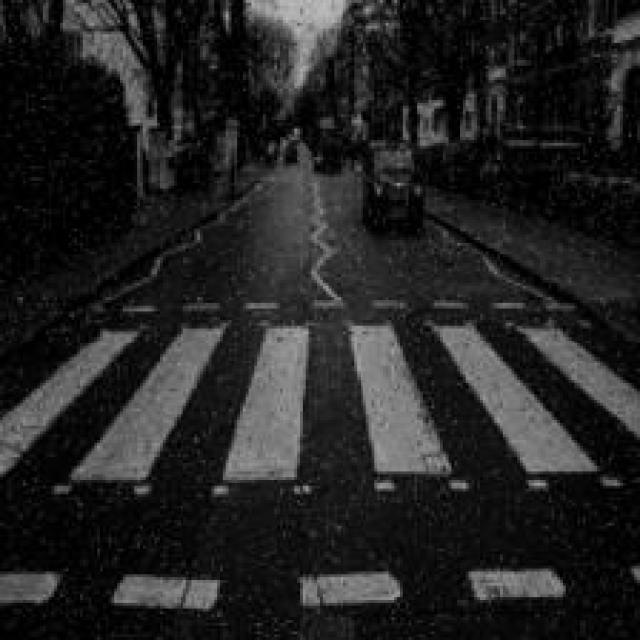crosswalk: (0, 296, 640, 601)
